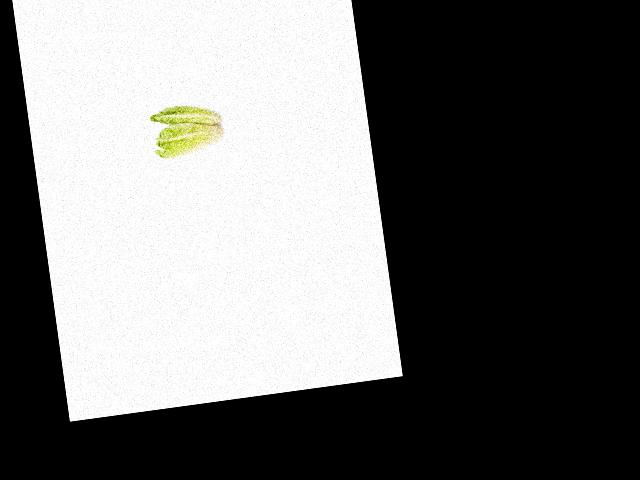lettuce: (147, 92, 226, 134)
